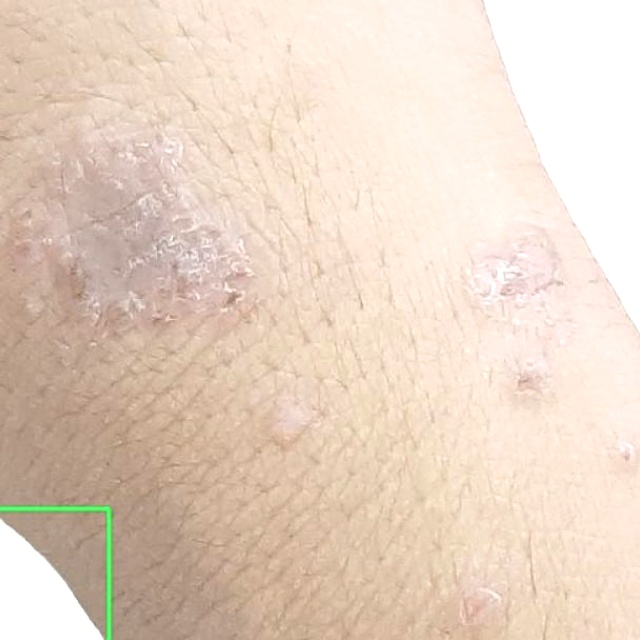Contact Dermatitis: (0, 508, 109, 639)
